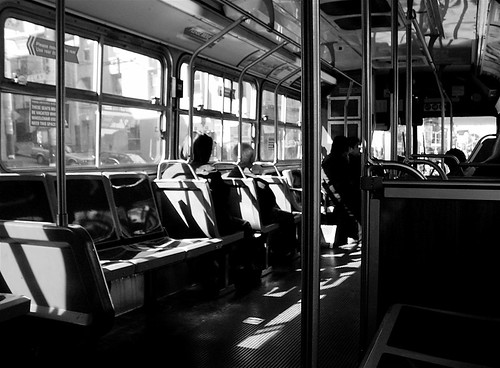bench: (1, 168, 196, 333)
chair: (152, 169, 249, 255), (240, 178, 283, 261)
window: (1, 2, 173, 167), (176, 61, 258, 170), (256, 95, 306, 165)
